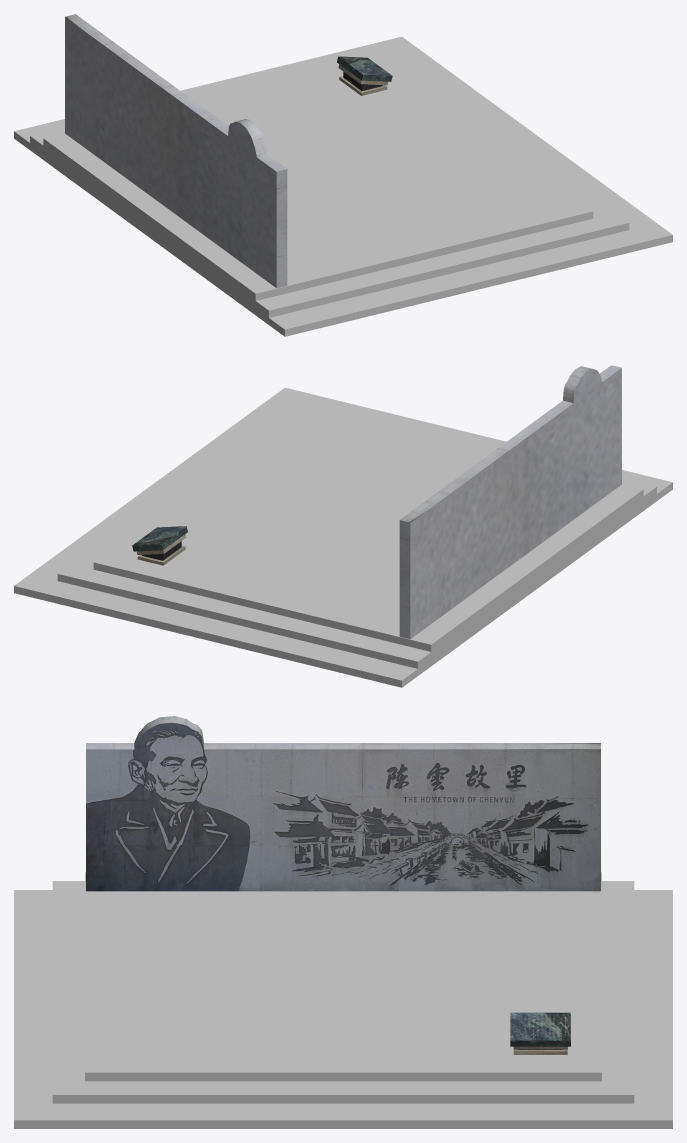
File: Building_Chenyunguli.FBX
3 renders of one model, top to bottom at view 1: azimuth 30°, elevation 25°; view 2: azimuth 150°, elevation 25°; view 3: azimuth 270°, elevation 25°, orthographic. The views are drawn at different scales.
Visible parts, largest first — view 1: Building_Chenyunguli001; view 2: Building_Chenyunguli001; view 3: Building_Chenyunguli001.
Boxes of the visible parts, x1,y1,x2,y2 form: Building_Chenyunguli001: [14, 14, 672, 336]; Building_Chenyunguli001: [14, 365, 672, 687]; Building_Chenyunguli001: [14, 716, 672, 1128].
Size of the model in its own units: 844 by 334 by 1021.
